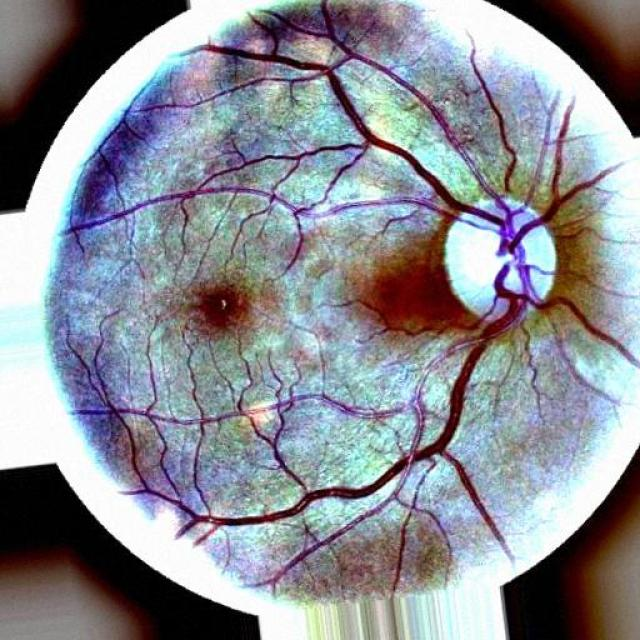Macula: (192, 286, 252, 348)
Nerves: (213, 250, 529, 537), (258, 40, 494, 224), (365, 60, 511, 228), (506, 111, 613, 246), (222, 180, 474, 230), (523, 280, 633, 367), (473, 40, 527, 201)
Optic Disk: (436, 190, 559, 323)
